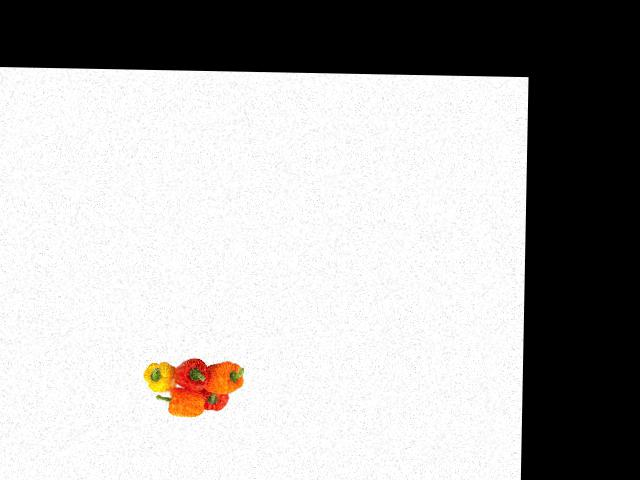bell_pepper: (203, 357, 253, 398)
